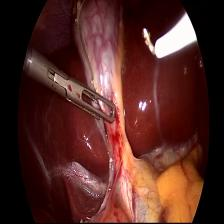Grasper: (54, 70, 118, 128)
Hook: (140, 13, 200, 63)
